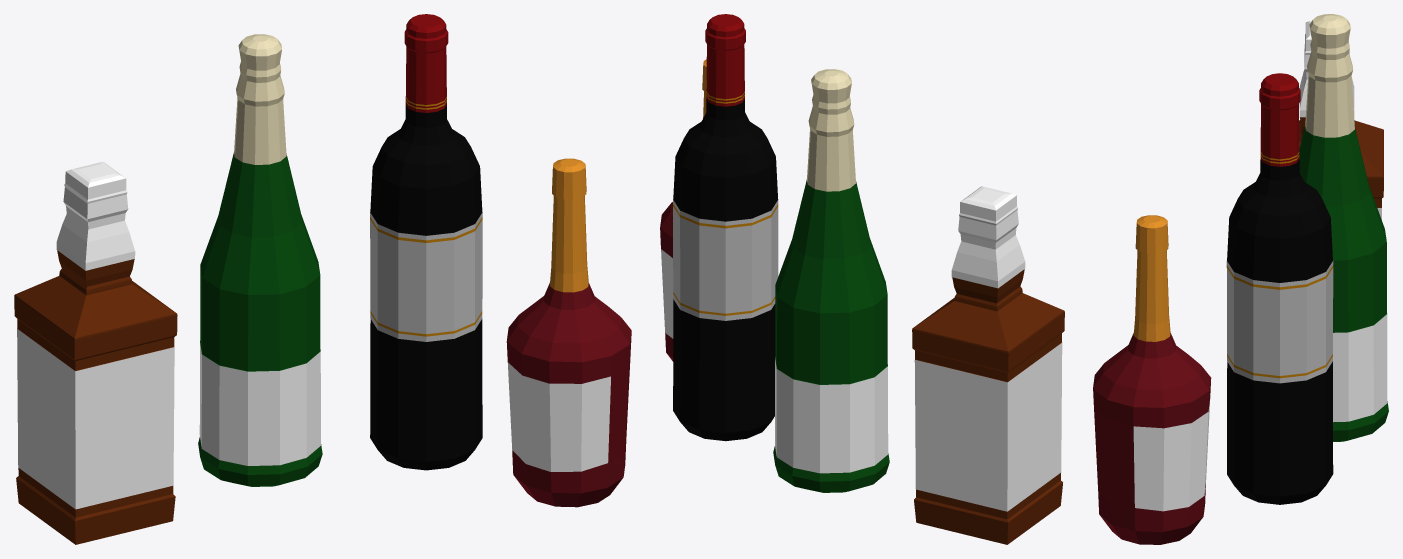
Rendered from alcoholdrinks2.glb.
3 renders of one model, left to right at view 1: azimuth 30°, elevation 25°; view 2: azimuth 150°, elevation 25°; view 3: azimuth 270°, elevation 25°, orthographic. The views are drawn at different scales.
Visible parts, largest first — view 1: JackDaniel's_8, Wine_9, Champagne_6, Hennessy_7; view 2: JackDaniel's_8, Wine_9, Champagne_6, Hennessy_7; view 3: Wine_9, Hennessy_7, Champagne_6, JackDaniel's_8.
Boxes of the visible parts, bbox=[...] form: JackDaniel's_8: bbox=[14, 162, 177, 544]; Wine_9: bbox=[370, 14, 482, 470]; Champagne_6: bbox=[198, 34, 322, 486]; Hennessy_7: bbox=[506, 158, 631, 507]; JackDaniel's_8: bbox=[912, 186, 1064, 544]; Wine_9: bbox=[673, 14, 778, 441]; Champagne_6: bbox=[773, 69, 889, 492]; Hennessy_7: bbox=[660, 59, 706, 361]; Wine_9: bbox=[1226, 73, 1333, 504]; Hennessy_7: bbox=[1093, 215, 1211, 544]; Champagne_6: bbox=[1299, 14, 1388, 441]; JackDaniel's_8: bbox=[1299, 21, 1383, 219].
Bounding box in the file's own units: 0.4678 × 0.4019 × 0.2606.
